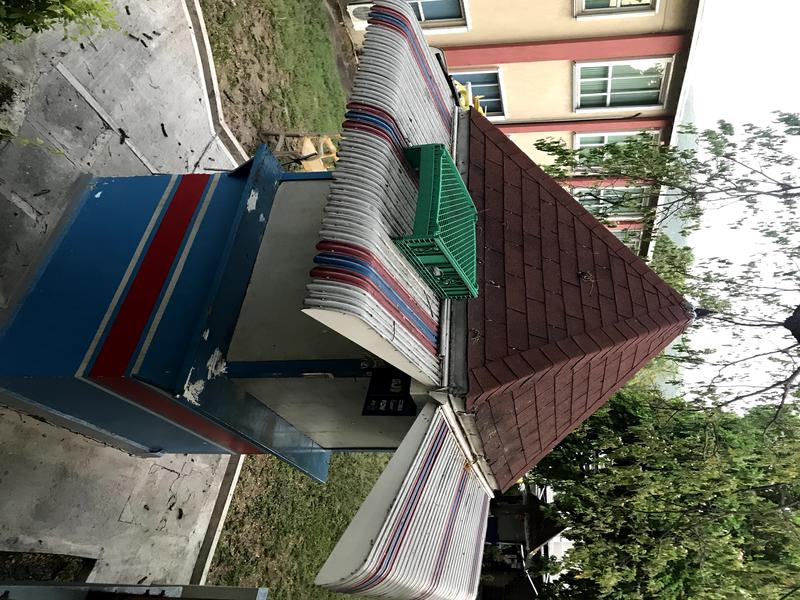18.0051667_-76.74944412_librarystall: (1, 27, 718, 540)
